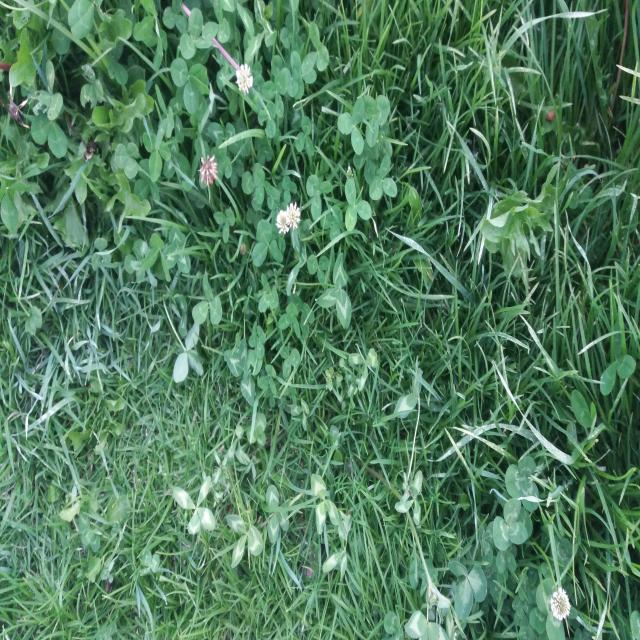Four Leaf Clover: (172, 475, 216, 535), (307, 357, 352, 413), (264, 490, 302, 546), (445, 365, 483, 412), (155, 511, 193, 554), (485, 328, 522, 363), (508, 367, 545, 400)
